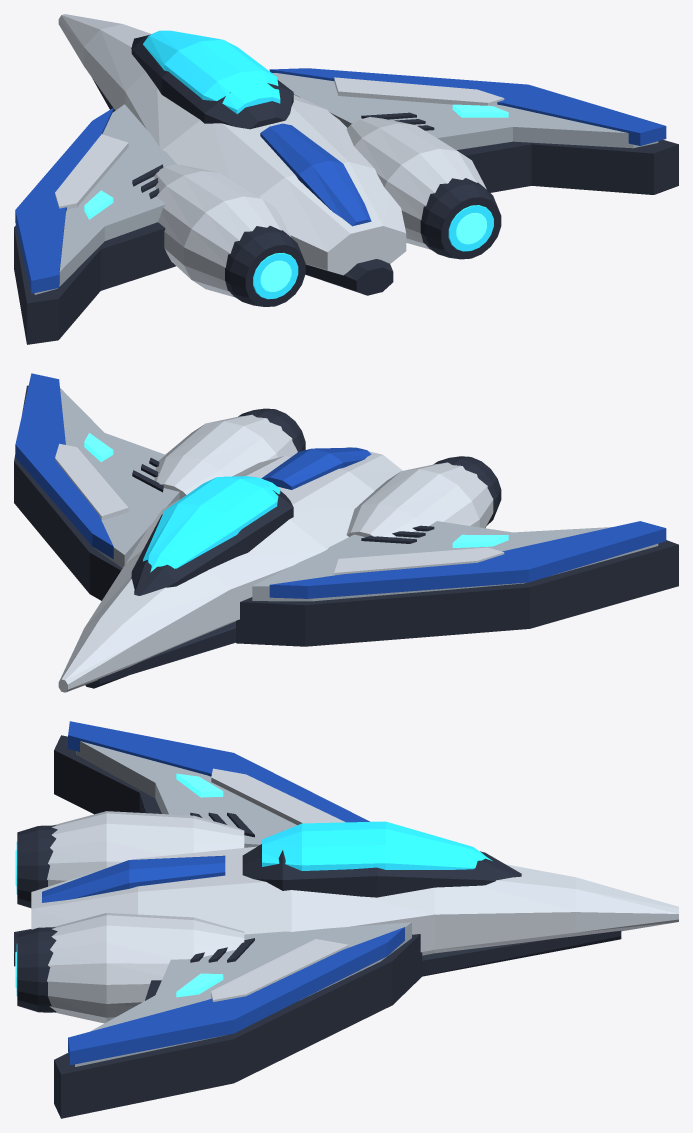
File: spaceship.glb
3 renders of one model, top to bottom at view 1: azimuth 30°, elevation 25°; view 2: azimuth 150°, elevation 25°; view 3: azimuth 270°, elevation 25°, orthographic. The views are drawn at different scales.
Parts seen in each view (by area): view 1: ShipSurface0, ShipSurface1, ShipSurface4, ShipSurface3, ShipSurface2, ShipSurface5; view 2: ShipSurface0, ShipSurface1, ShipSurface3, ShipSurface4, ShipSurface2, ShipSurface5; view 3: ShipSurface0, ShipSurface1, ShipSurface3, ShipSurface4, ShipSurface2, ShipSurface5.
Part boxes in pixels (<box>): ShipSurface0: <box>55,14,504,297</box>; ShipSurface1: <box>14,34,678,344</box>; ShipSurface4: <box>34,73,658,294</box>; ShipSurface3: <box>15,68,666,293</box>; ShipSurface2: <box>143,30,493,299</box>; ShipSurface5: <box>84,104,508,291</box>; ShipSurface0: <box>55,414,504,692</box>; ShipSurface1: <box>14,385,678,688</box>; ShipSurface3: <box>15,373,666,598</box>; ShipSurface4: <box>60,388,658,601</box>; ShipSurface2: <box>143,476,280,572</box>; ShipSurface5: <box>84,433,508,547</box>; ShipSurface0: <box>31,768,678,1023</box>; ShipSurface1: <box>14,735,621,1118</box>; ShipSurface3: <box>42,721,404,1065</box>; ShipSurface4: <box>75,741,411,1066</box>; ShipSurface2: <box>16,821,492,996</box>; ShipSurface5: <box>15,773,223,997</box>.
Size of the model in its own units: 4.6 by 0.9163 by 3.81.
